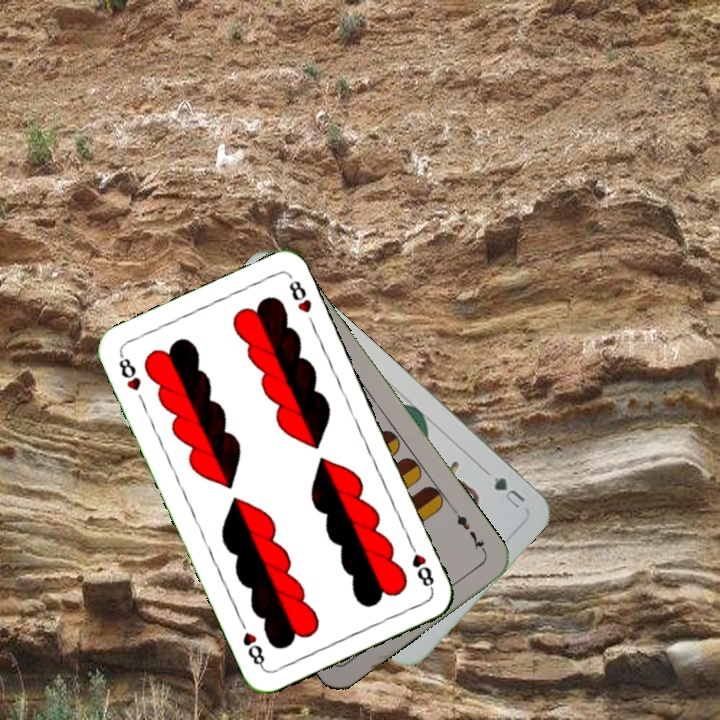E7: (449, 505, 489, 557)
GU: (489, 472, 528, 511)
H8: (404, 537, 437, 593), (114, 350, 144, 394)
